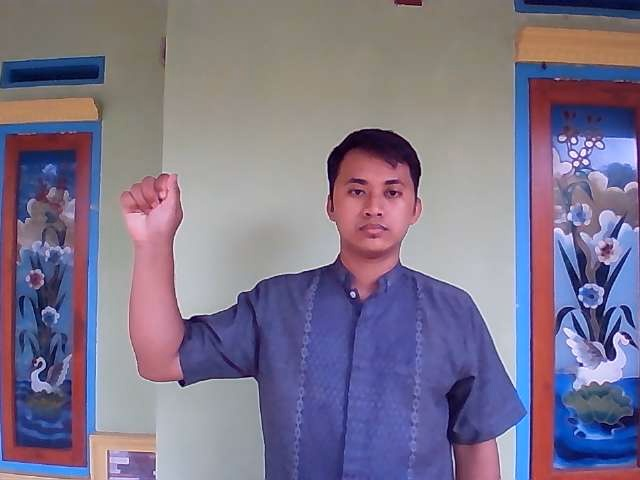A: (112, 167, 189, 258)
